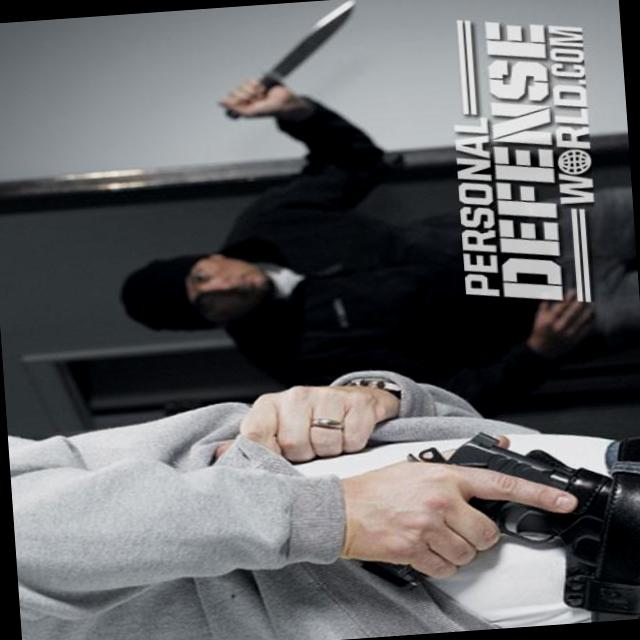handgun: (345, 426, 639, 611)
